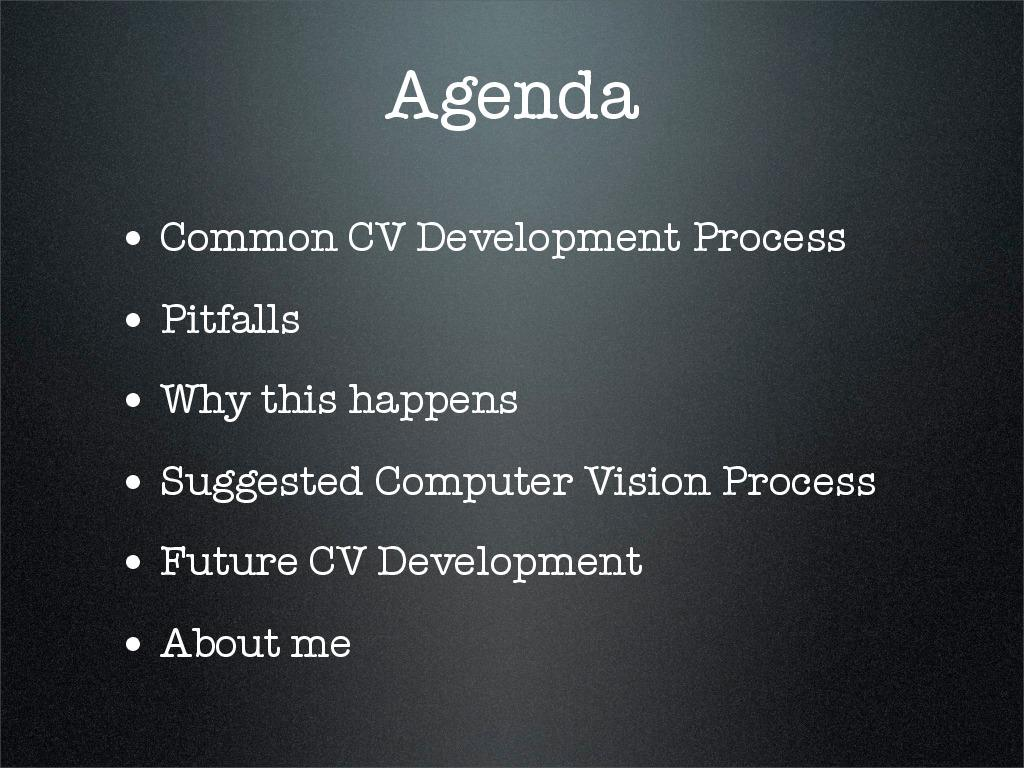paragraph: (79, 176, 934, 694)
title: (365, 39, 647, 153)
